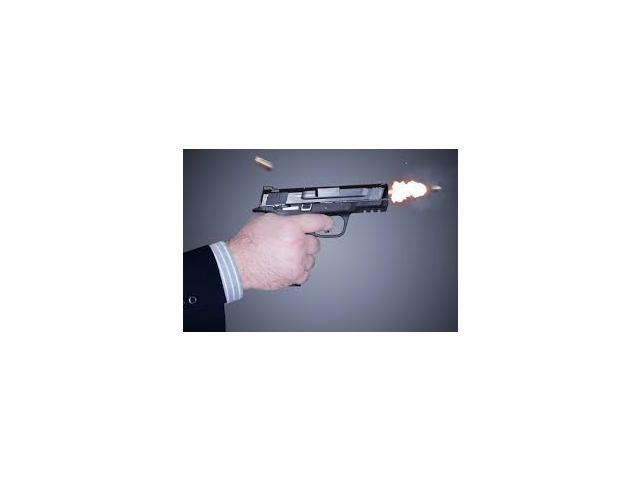pistol: (252, 182, 392, 289)
